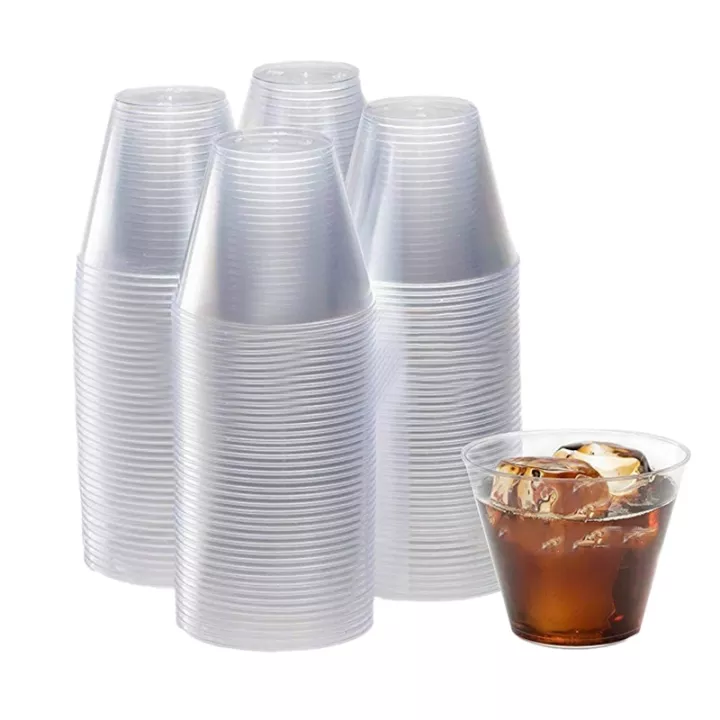plastic_bottle: (459, 423, 698, 655)
